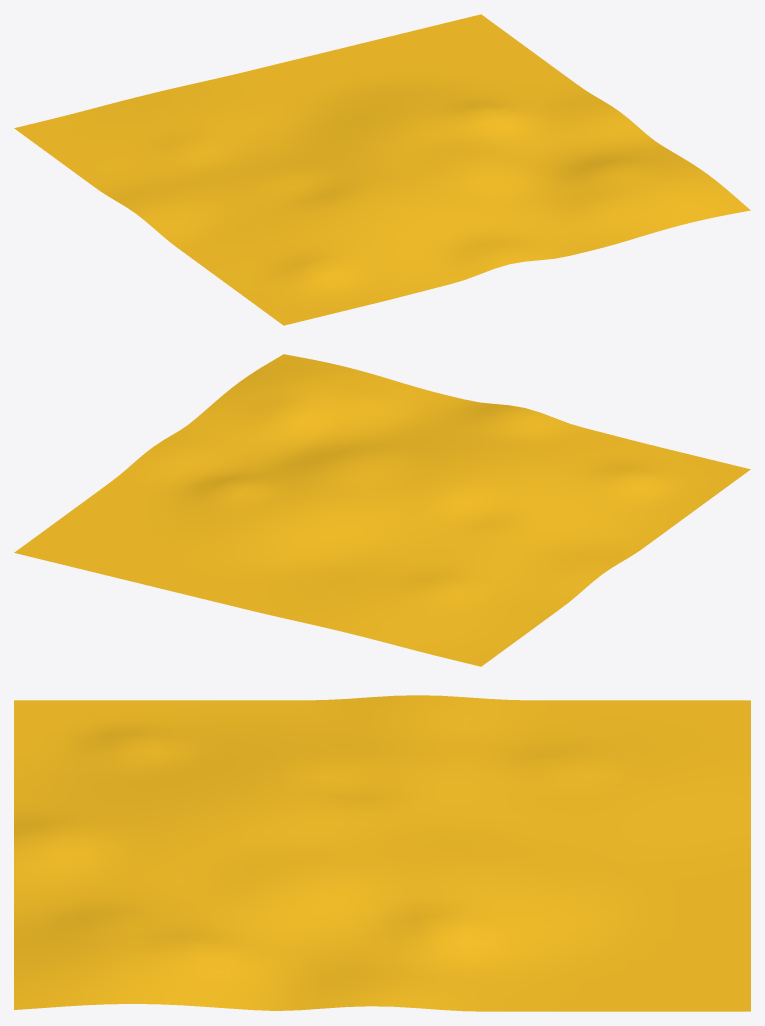
Rendered from ground.fbx.
The picture shows the model from 3 angles, top to bottom: view 1: azimuth 30°, elevation 25°; view 2: azimuth 150°, elevation 25°; view 3: azimuth 270°, elevation 25°; orthographic projection. The views are drawn at different scales.
Visible parts, largest first — view 1: 平面; view 2: 平面; view 3: 平面.
Part boxes in pixels (box(x1,y1,x2,y2)): 平面: box(14, 14, 750, 325); 平面: box(14, 354, 750, 666); 平面: box(14, 695, 750, 1011).
Bounding box in the file's own units: 7910 × 7910 × 245.
